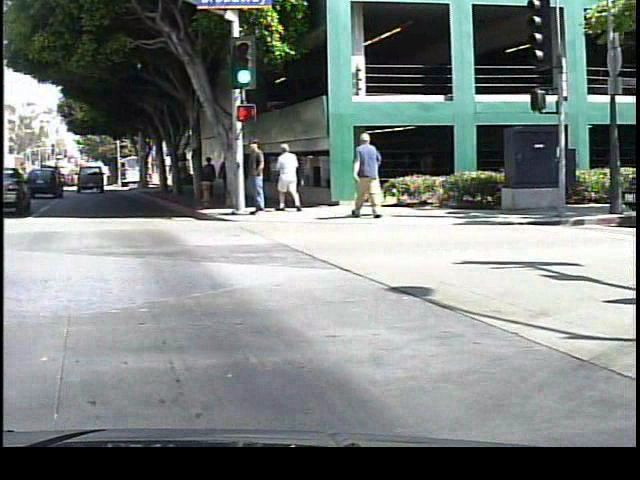person: (345, 127, 387, 218), (241, 134, 271, 222), (273, 140, 304, 213), (201, 153, 217, 200)
